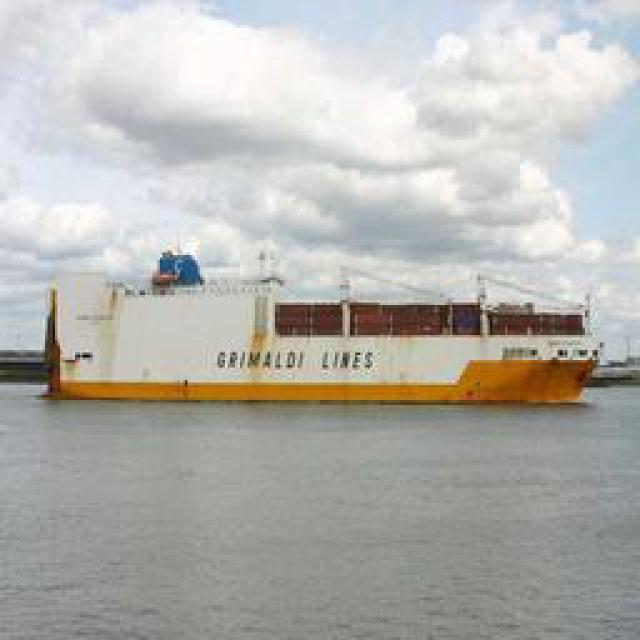Ship: (32, 254, 615, 409)
